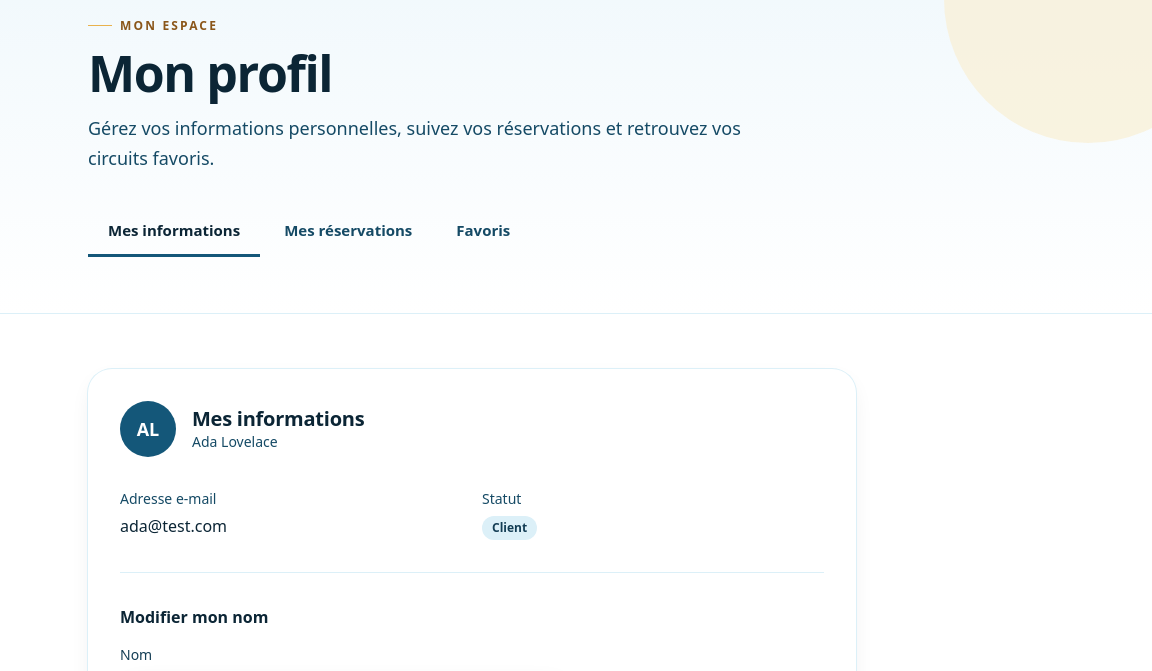
Scenario: ProfileComponent — onglets › change d’onglet au clic et le reflète dans l’URL
Click the tab "Mes réservations" at [348, 232], box 264,206 -> 432,258
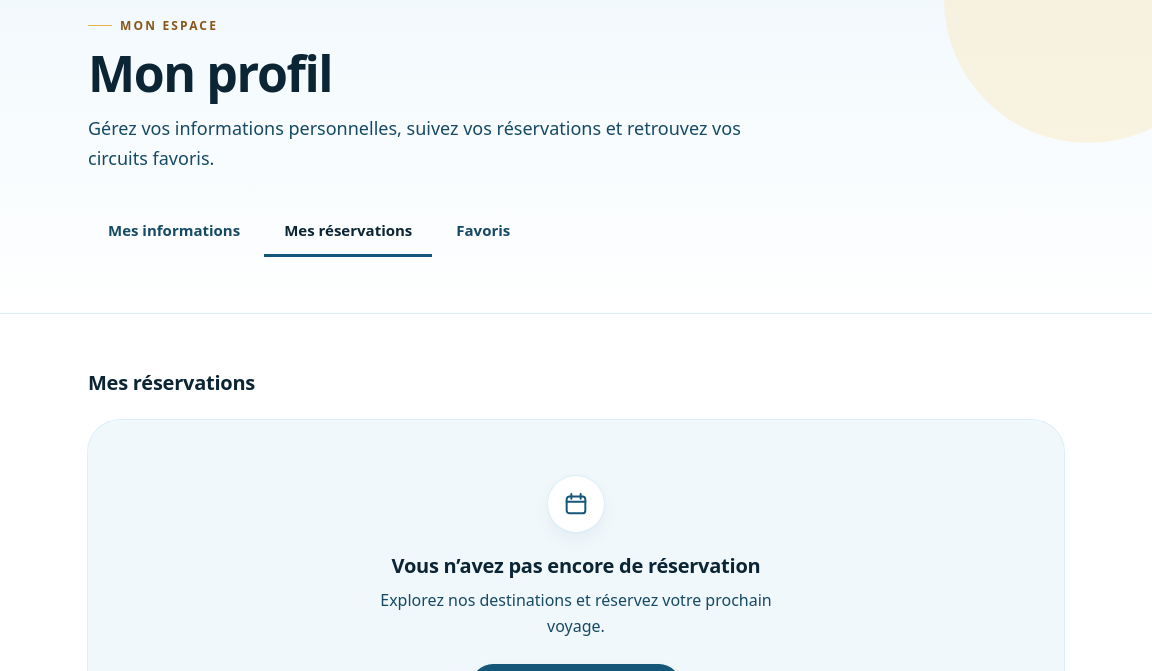
Click the tab "Mes informations" at [174, 232], box 88,206 -> 260,258
(page scrolled)
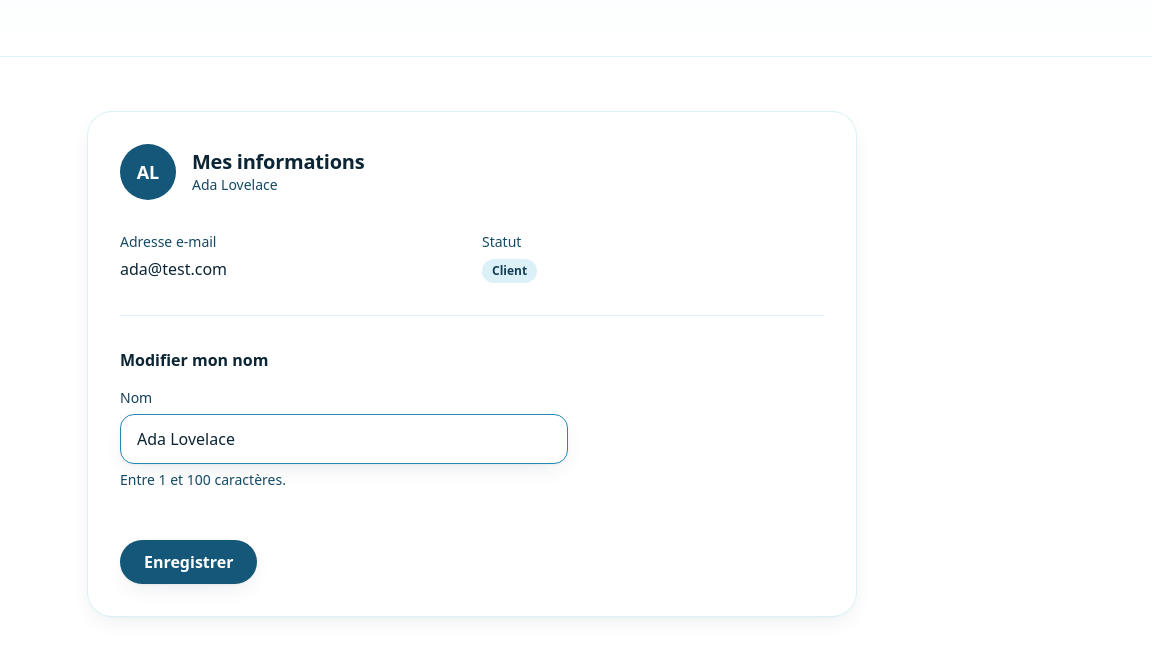
Check: the field labelled "Nom" is shown, box 120,414 -> 568,464
